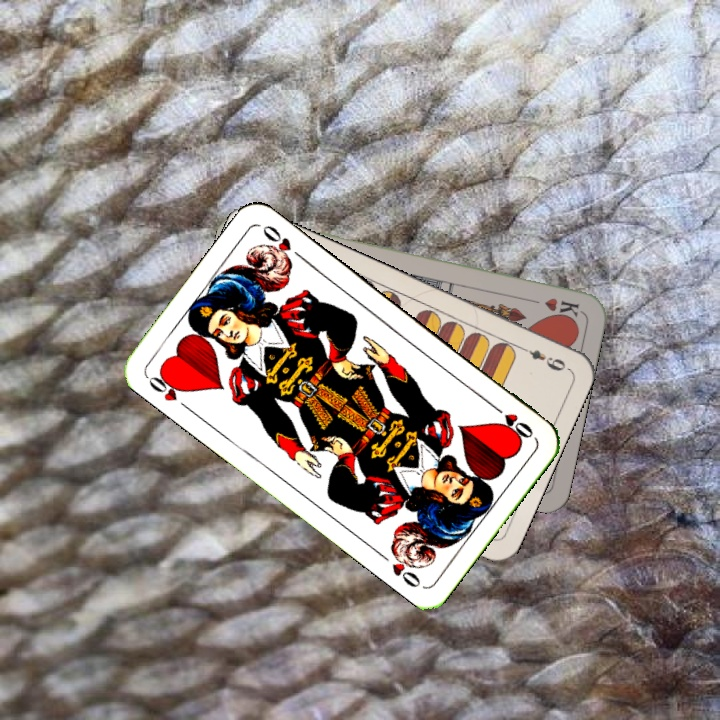E9: (515, 342, 571, 374)
HK: (523, 293, 582, 320)
HO: (143, 367, 193, 414), (487, 400, 536, 442)
